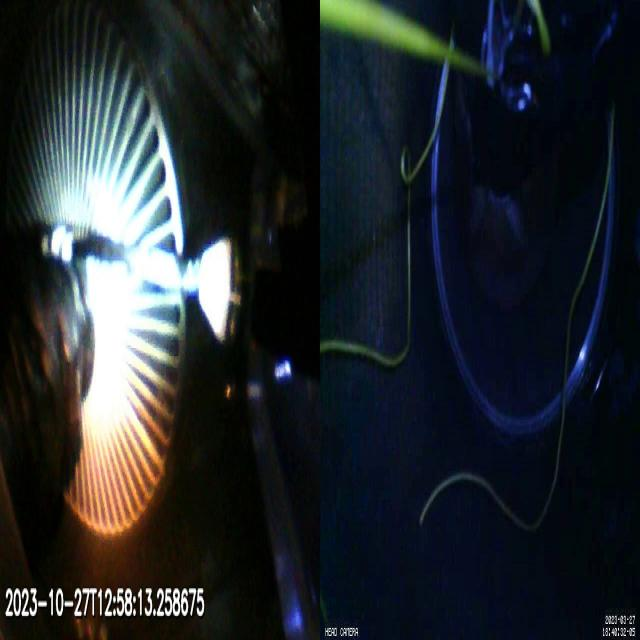head: (198, 239, 274, 339)
white-dots: (42, 222, 74, 264)
